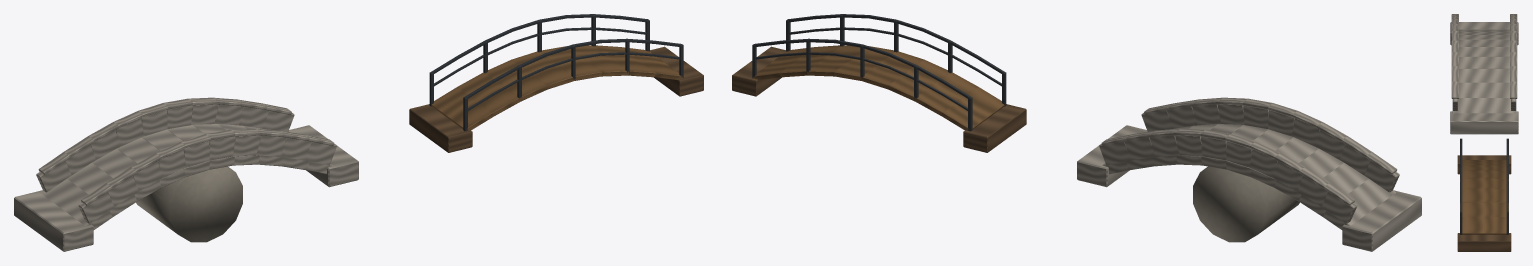
Rendered from bridge.glb.
3 renders of one model, left to right at view 1: azimuth 30°, elevation 25°; view 2: azimuth 150°, elevation 25°; view 3: azimuth 270°, elevation 25°, orthographic. The views are drawn at different scales.
Parts seen in each view (by area): view 1: bridge_v1, bridge_v2; view 2: bridge_v1, bridge_v2; view 3: bridge_v1, bridge_v2.
Part boxes in pixels (x1,y1,x2,y2): bridge_v1: (14, 97, 358, 251); bridge_v2: (409, 14, 703, 152); bridge_v1: (1077, 97, 1421, 251); bridge_v2: (732, 14, 1026, 152); bridge_v1: (1450, 14, 1518, 134); bridge_v2: (1457, 138, 1511, 251).
Bounding box in the file's own units: 20.95 × 3.32 × 2.8.
Materials: 2 (2 with a texture image).
